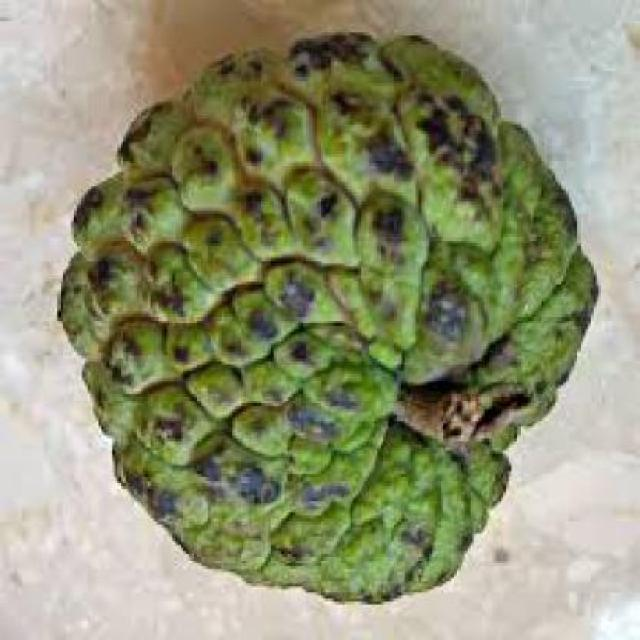BIODEGRADABLE: (58, 34, 597, 606)
